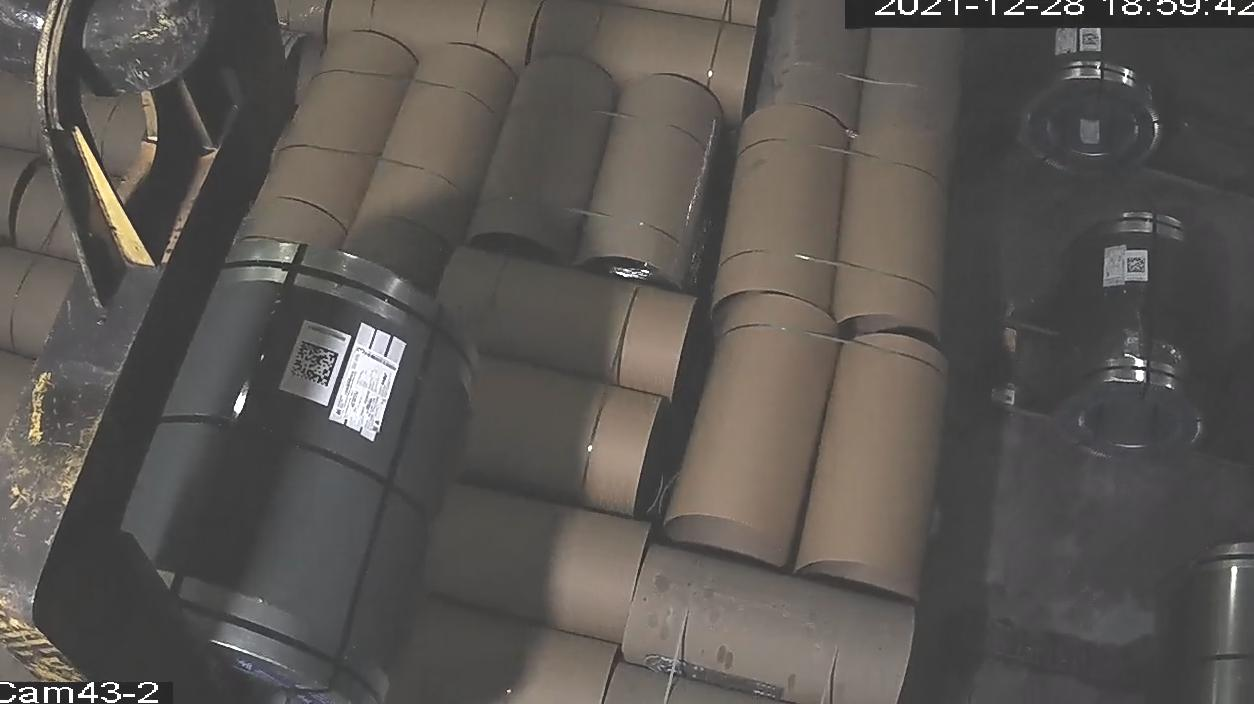data matrix: (286, 339, 343, 390), (1124, 255, 1151, 276)
